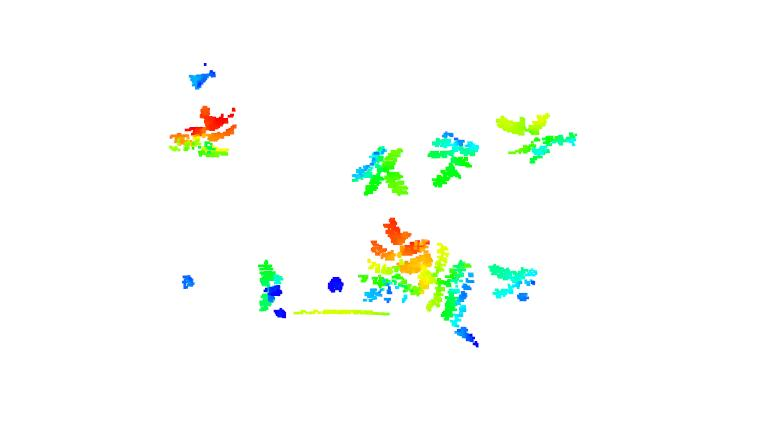chickpea: (358, 215, 434, 306), (416, 244, 480, 344), (495, 107, 577, 164), (168, 102, 241, 159), (347, 143, 410, 199), (425, 129, 476, 189), (483, 263, 541, 303), (254, 260, 286, 314)
